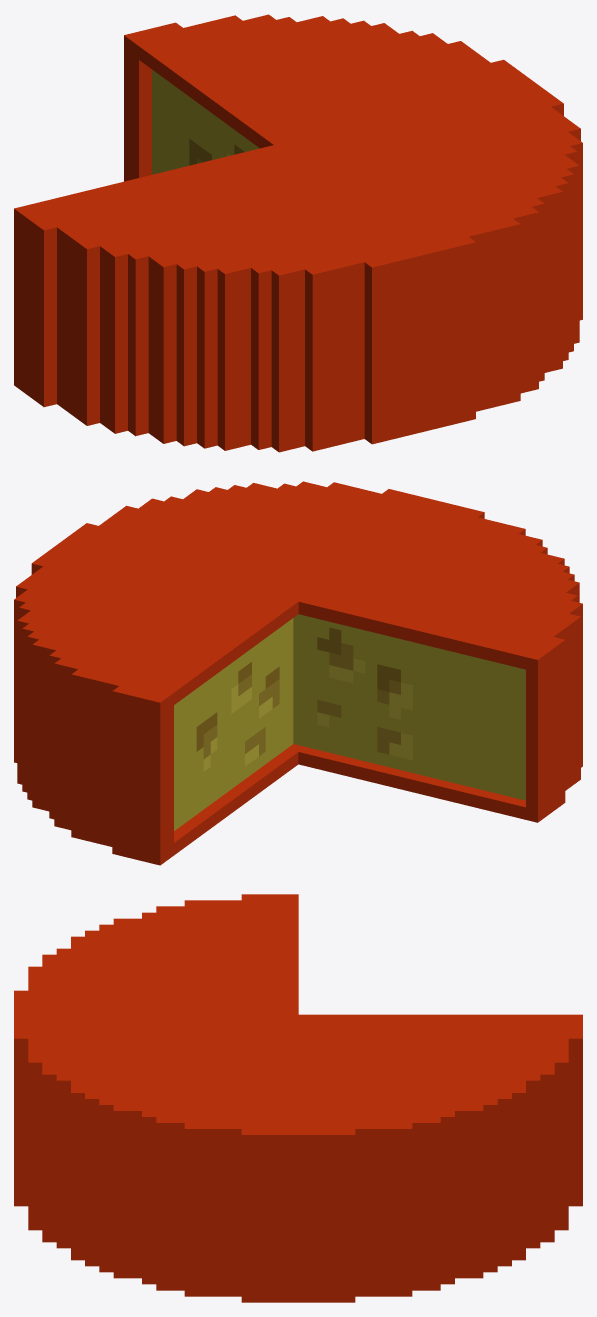
Rendered from cheese_horma.fbx.
3 views of the same model, one above another, from view 1: azimuth 30°, elevation 25°; view 2: azimuth 150°, elevation 25°; view 3: azimuth 270°, elevation 25° (orthographic). The views are drawn at different scales.
Visible parts, largest first — view 1: Cheese; view 2: Cheese; view 3: Cheese.
Part boxes in pixels (<box>): Cheese: <box>14,14,582,452</box>; Cheese: <box>14,481,582,865</box>; Cheese: <box>14,894,582,1302</box>.
Bounding box in the file's own units: 400 × 130 × 400.
